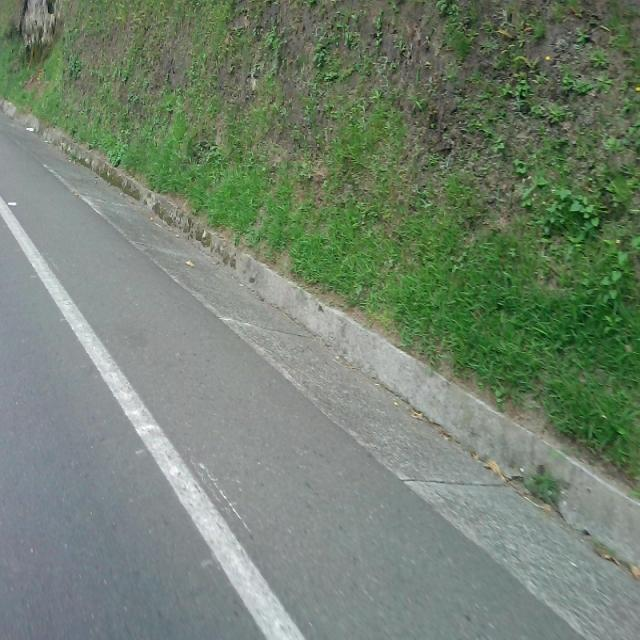DITCH: (1, 35, 638, 638), (2, 99, 638, 638)
